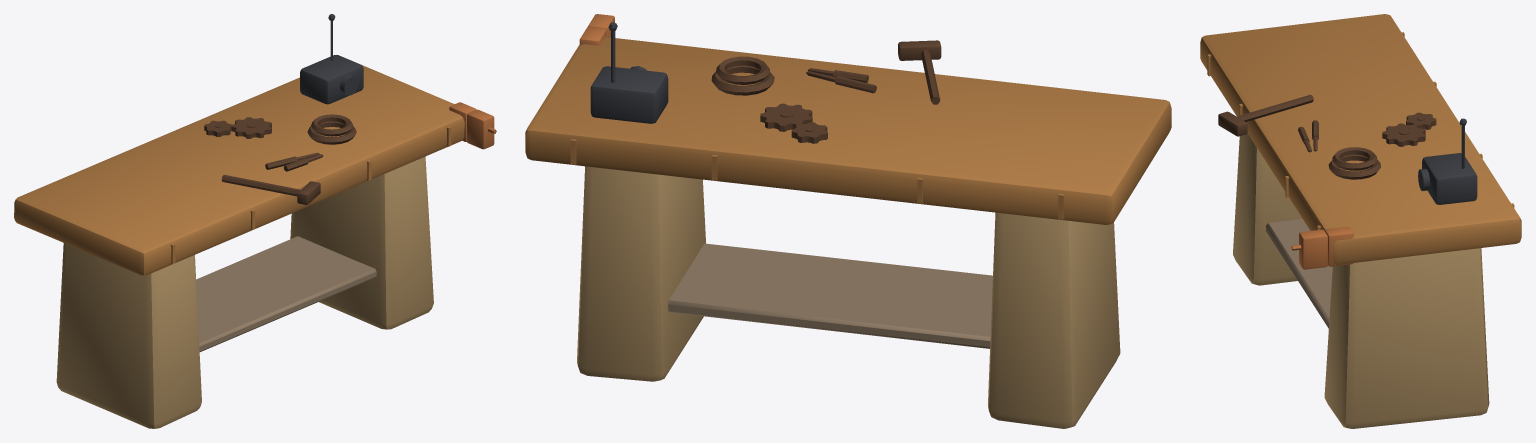
File: nomad_building_b35_decor.fbx
The picture shows the model from 3 angles, left to right: view 1: azimuth 30°, elevation 25°; view 2: azimuth 150°, elevation 25°; view 3: azimuth 270°, elevation 25°; orthographic projection. The views are drawn at different scales.
Parts seen in each view (by area): view 1: C__Workbench__01; view 2: C__Workbench__01; view 3: C__Workbench__01.
Boxes of the visible parts, bbox=[...] form: C__Workbench__01: bbox=[14, 14, 496, 428]; C__Workbench__01: bbox=[525, 14, 1171, 428]; C__Workbench__01: bbox=[1200, 14, 1521, 428].
Size of the model in its own units: 283 by 167 by 167.
